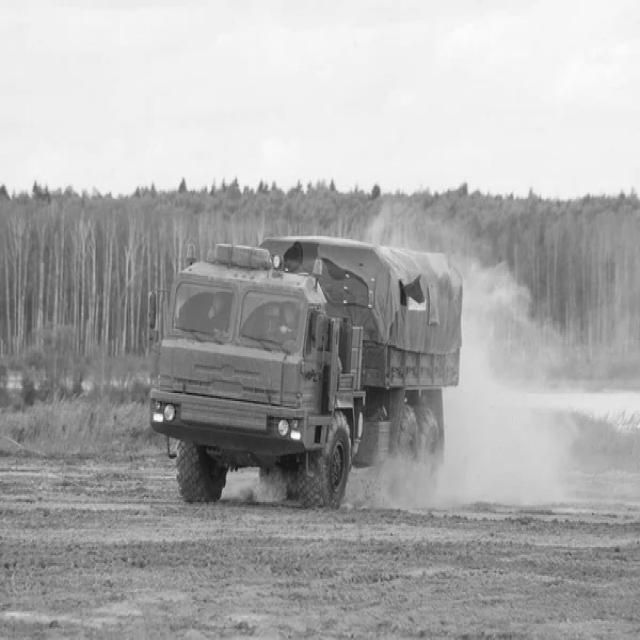Truck: (150, 236, 462, 506)
